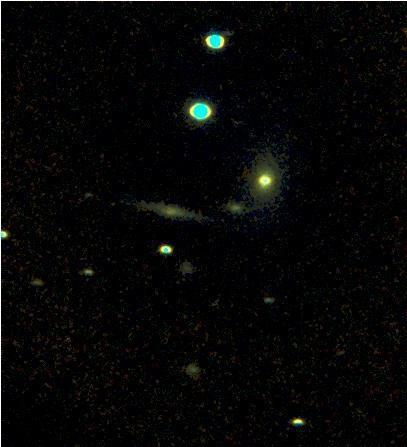star: (97, 190, 127, 220)
